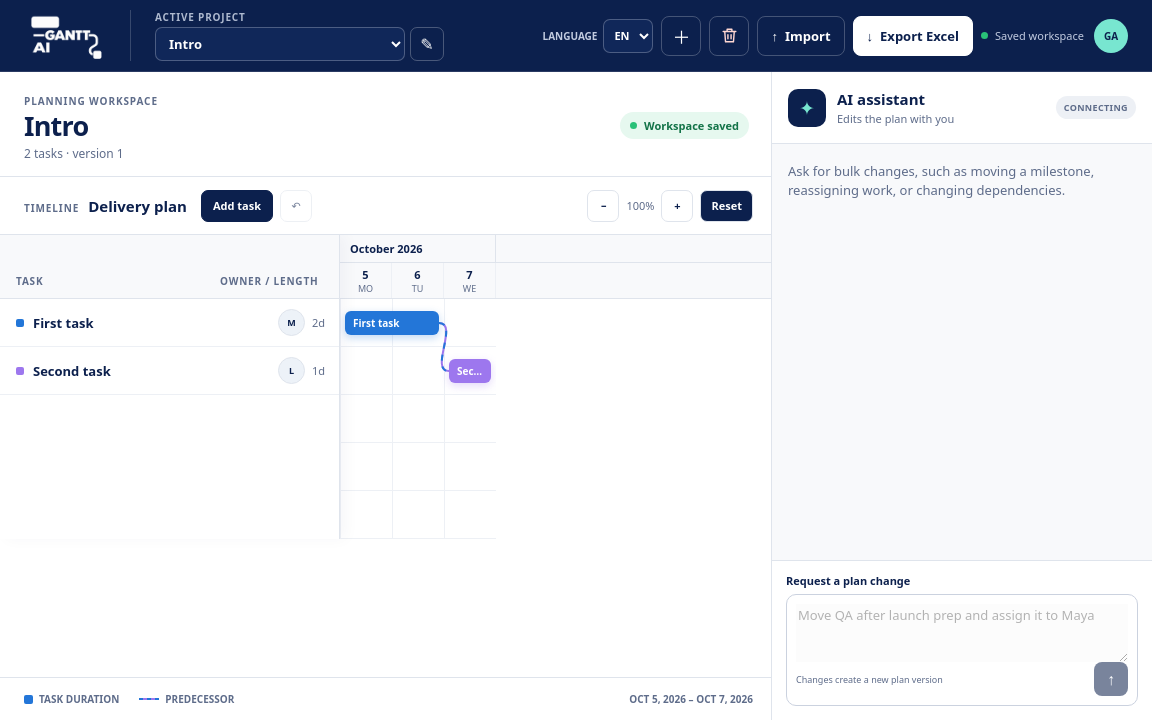
Test: plan view › closes a stale selection when chat replaces the plan
The image size is (1152, 720).
Click the button with aria-label "Edit First task details" at (63, 323), box 0,299 -> 339,346
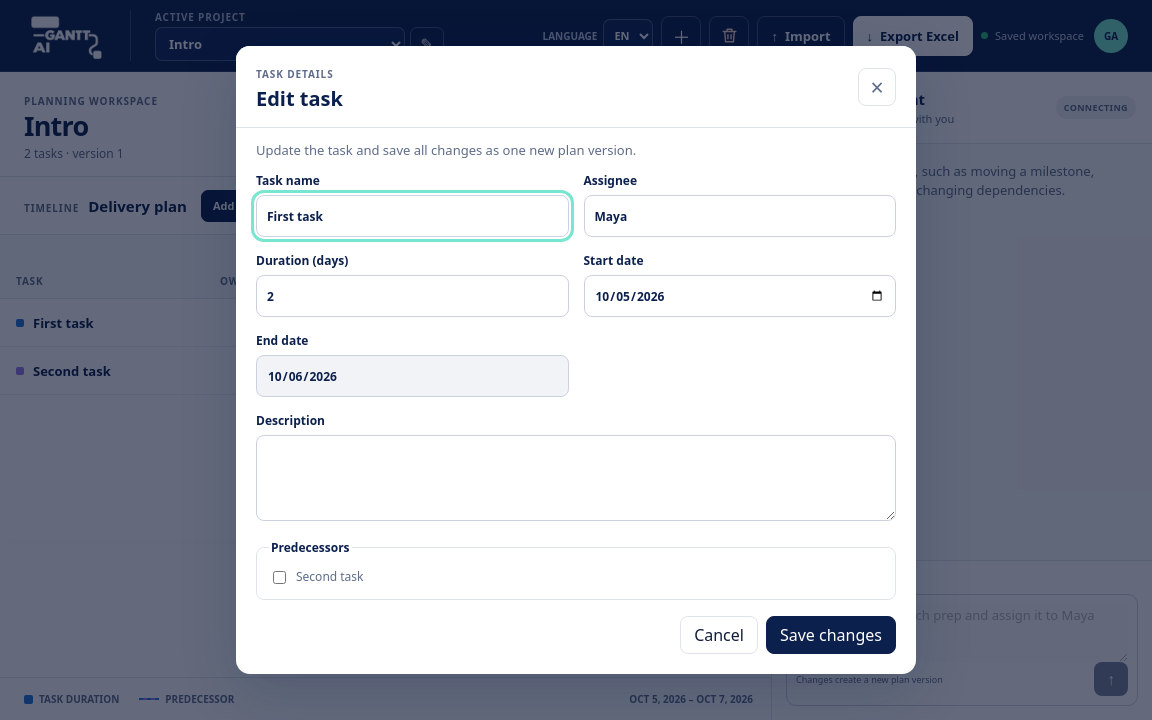
Now the dialog is shown, box 236,46 -> 916,674
